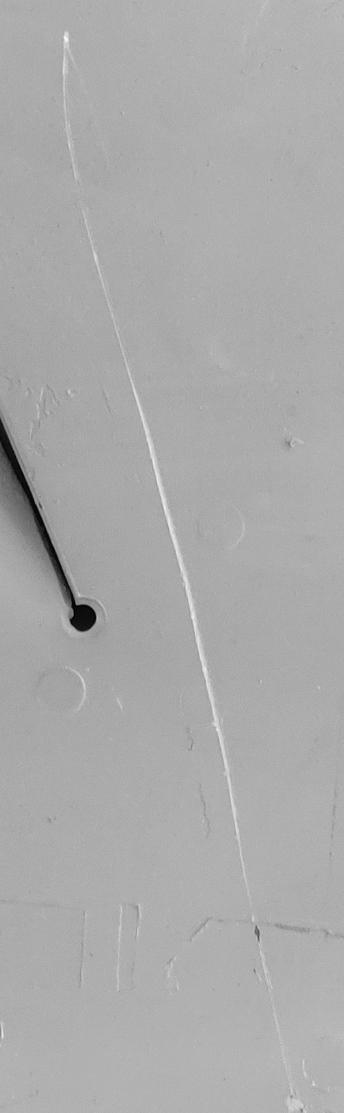scratch: (1, 1, 344, 1113)
